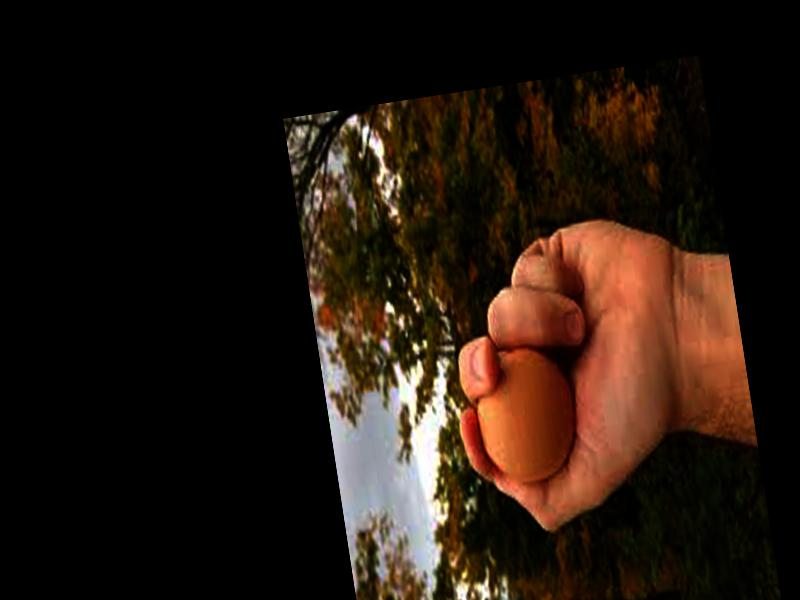Eggs: (468, 335, 583, 487)
